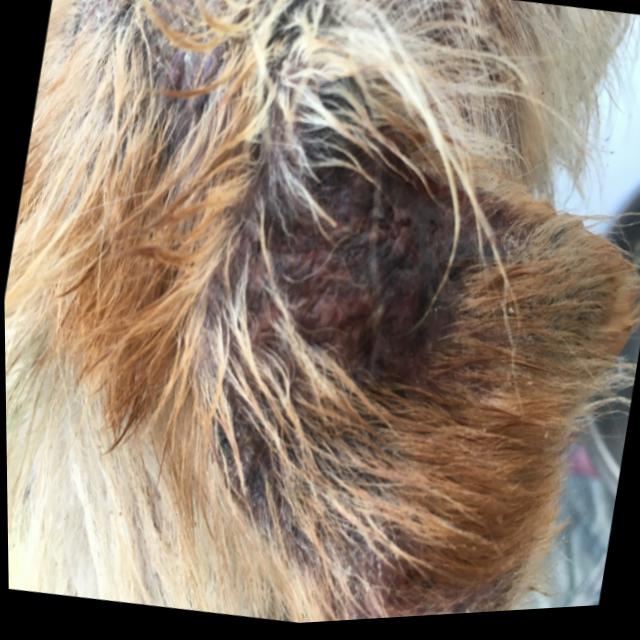demodicosis: (233, 133, 467, 418), (333, 519, 475, 625), (105, 0, 228, 110), (190, 422, 285, 537)
